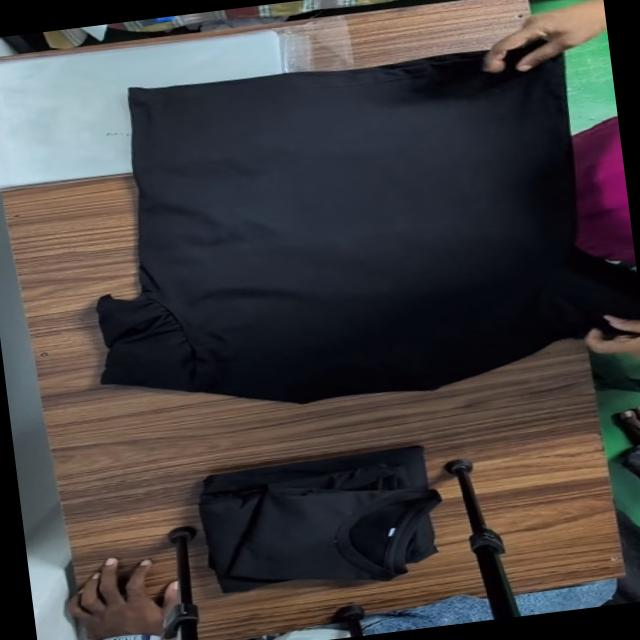new-garment: (98, 53, 640, 402)
